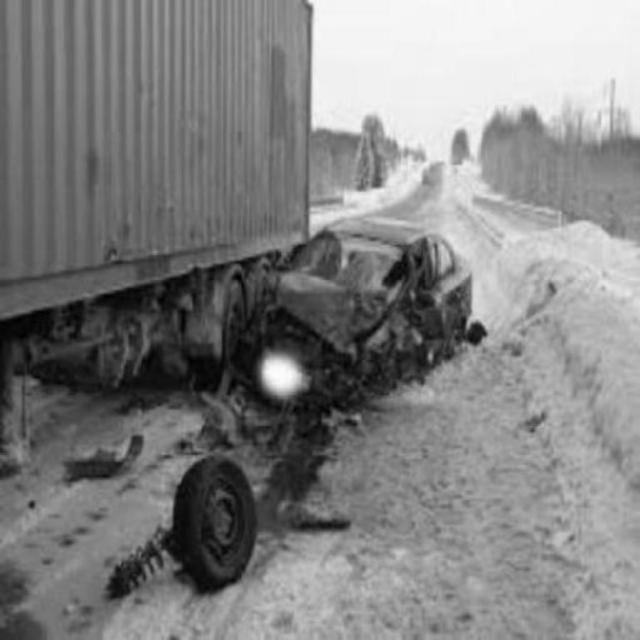accident: (21, 170, 465, 413)
